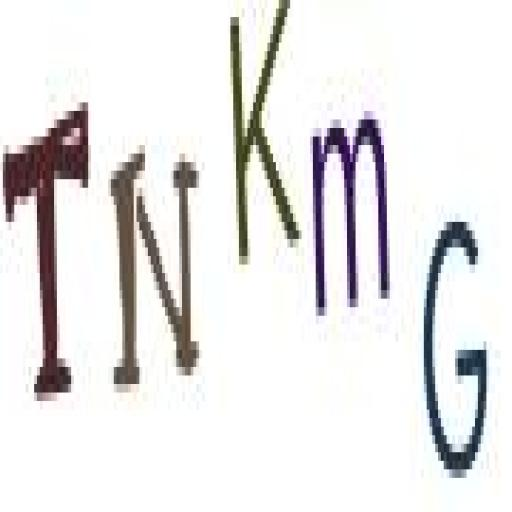G: (420, 193, 500, 493)
K: (223, 0, 303, 274)
N: (102, 134, 203, 410)
T: (0, 86, 96, 436)
m: (311, 101, 395, 331)
